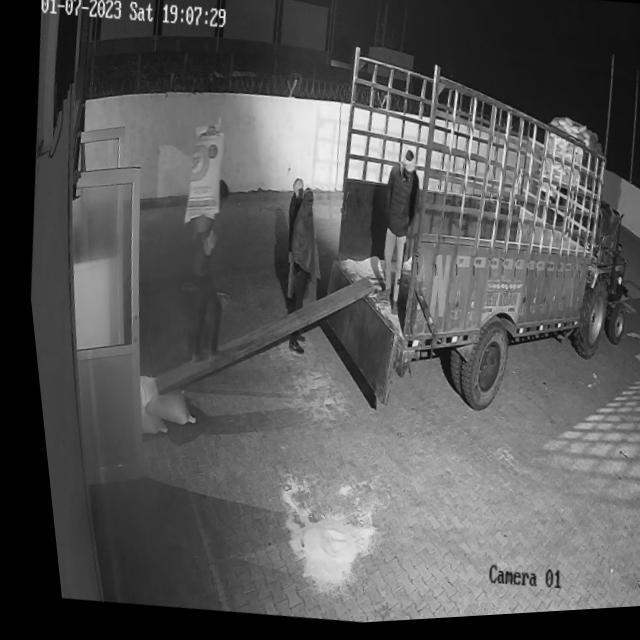sack: (171, 125, 229, 230), (125, 372, 191, 430)
